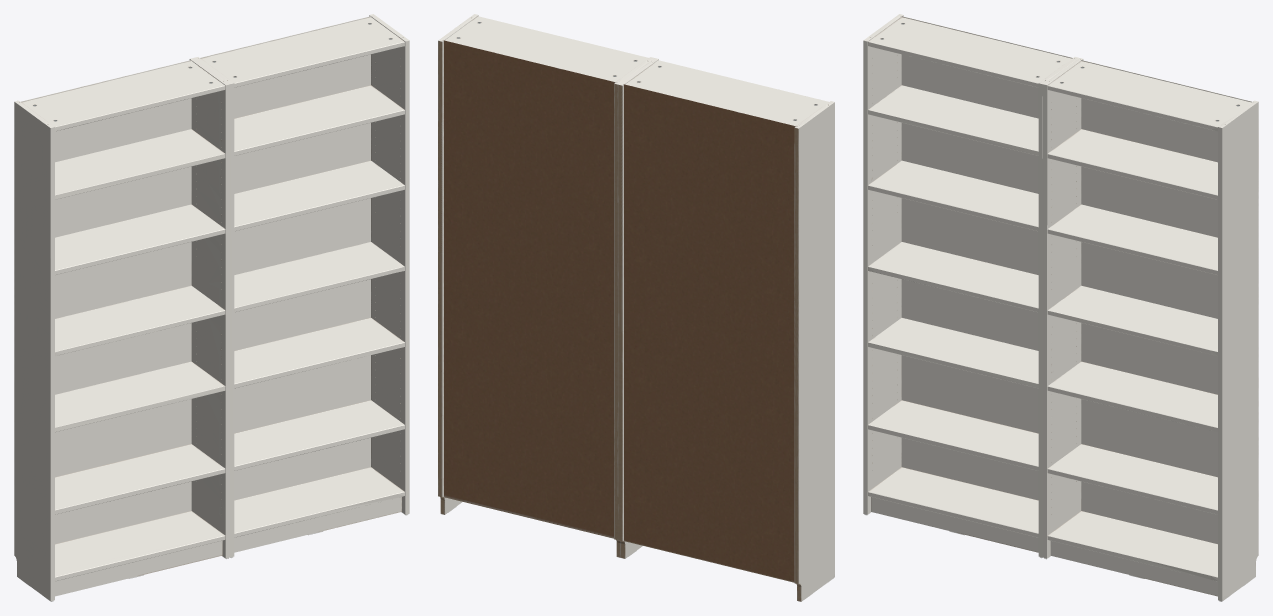
The picture shows the model from 3 angles, left to right: view 1: azimuth 30°, elevation 25°; view 2: azimuth 150°, elevation 25°; view 3: azimuth 330°, elevation 25°; orthographic projection.
Parts seen in each view (by area): view 1: world; view 2: world; view 3: world.
Part boxes in pixels (left/top/right/bottom): world: left=14, top=14, right=409, bottom=601; world: left=438, top=14, right=834, bottom=601; world: left=863, top=14, right=1258, bottom=601.
Size of the model in its own units: 1.6 by 2.02 by 0.28.
2 materials, 2 textured.
